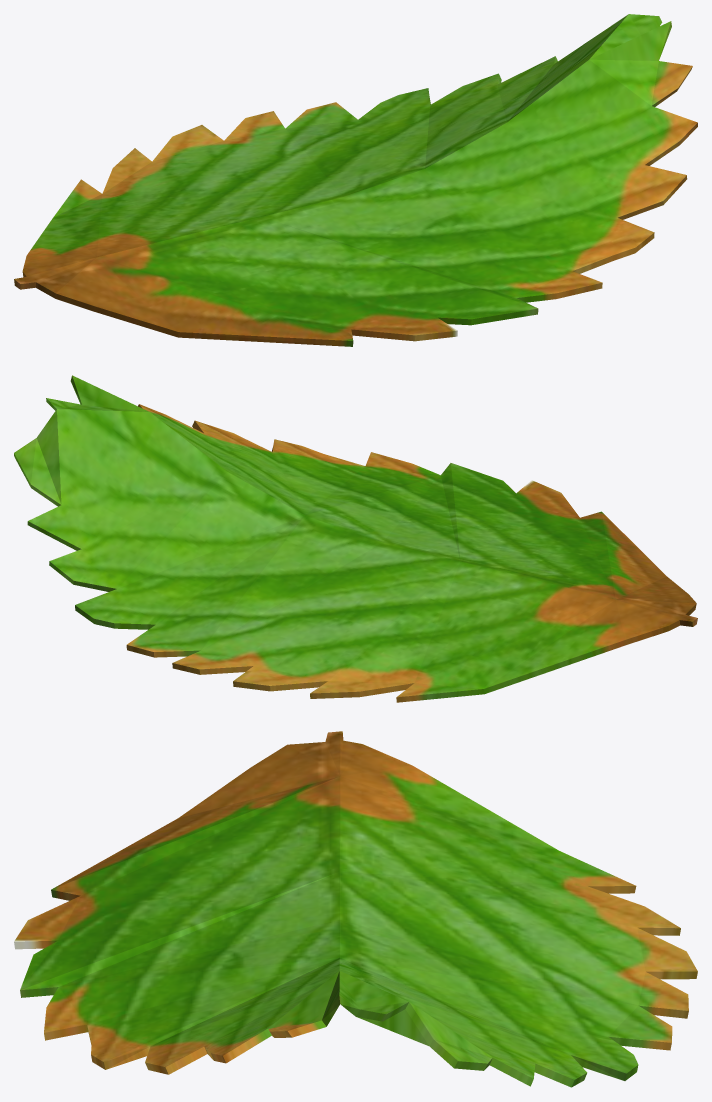
File: leaf2_s2.dae
3 renders of one model, top to bottom at view 1: azimuth 30°, elevation 25°; view 2: azimuth 150°, elevation 25°; view 3: azimuth 270°, elevation 25°, orthographic. The views are drawn at different scales.
Parts seen in each view (by area): view 1: Plane; view 2: Plane; view 3: Plane.
Boxes of the visible parts, left/top/right/bottom form: Plane: left=14, top=14, right=697, bottom=346; Plane: left=14, top=375, right=697, bottom=702; Plane: left=14, top=731, right=697, bottom=1087.
Size of the model in its own units: 0.1377 by 0.1018 by 0.0278.
1 material, 1 textured.
